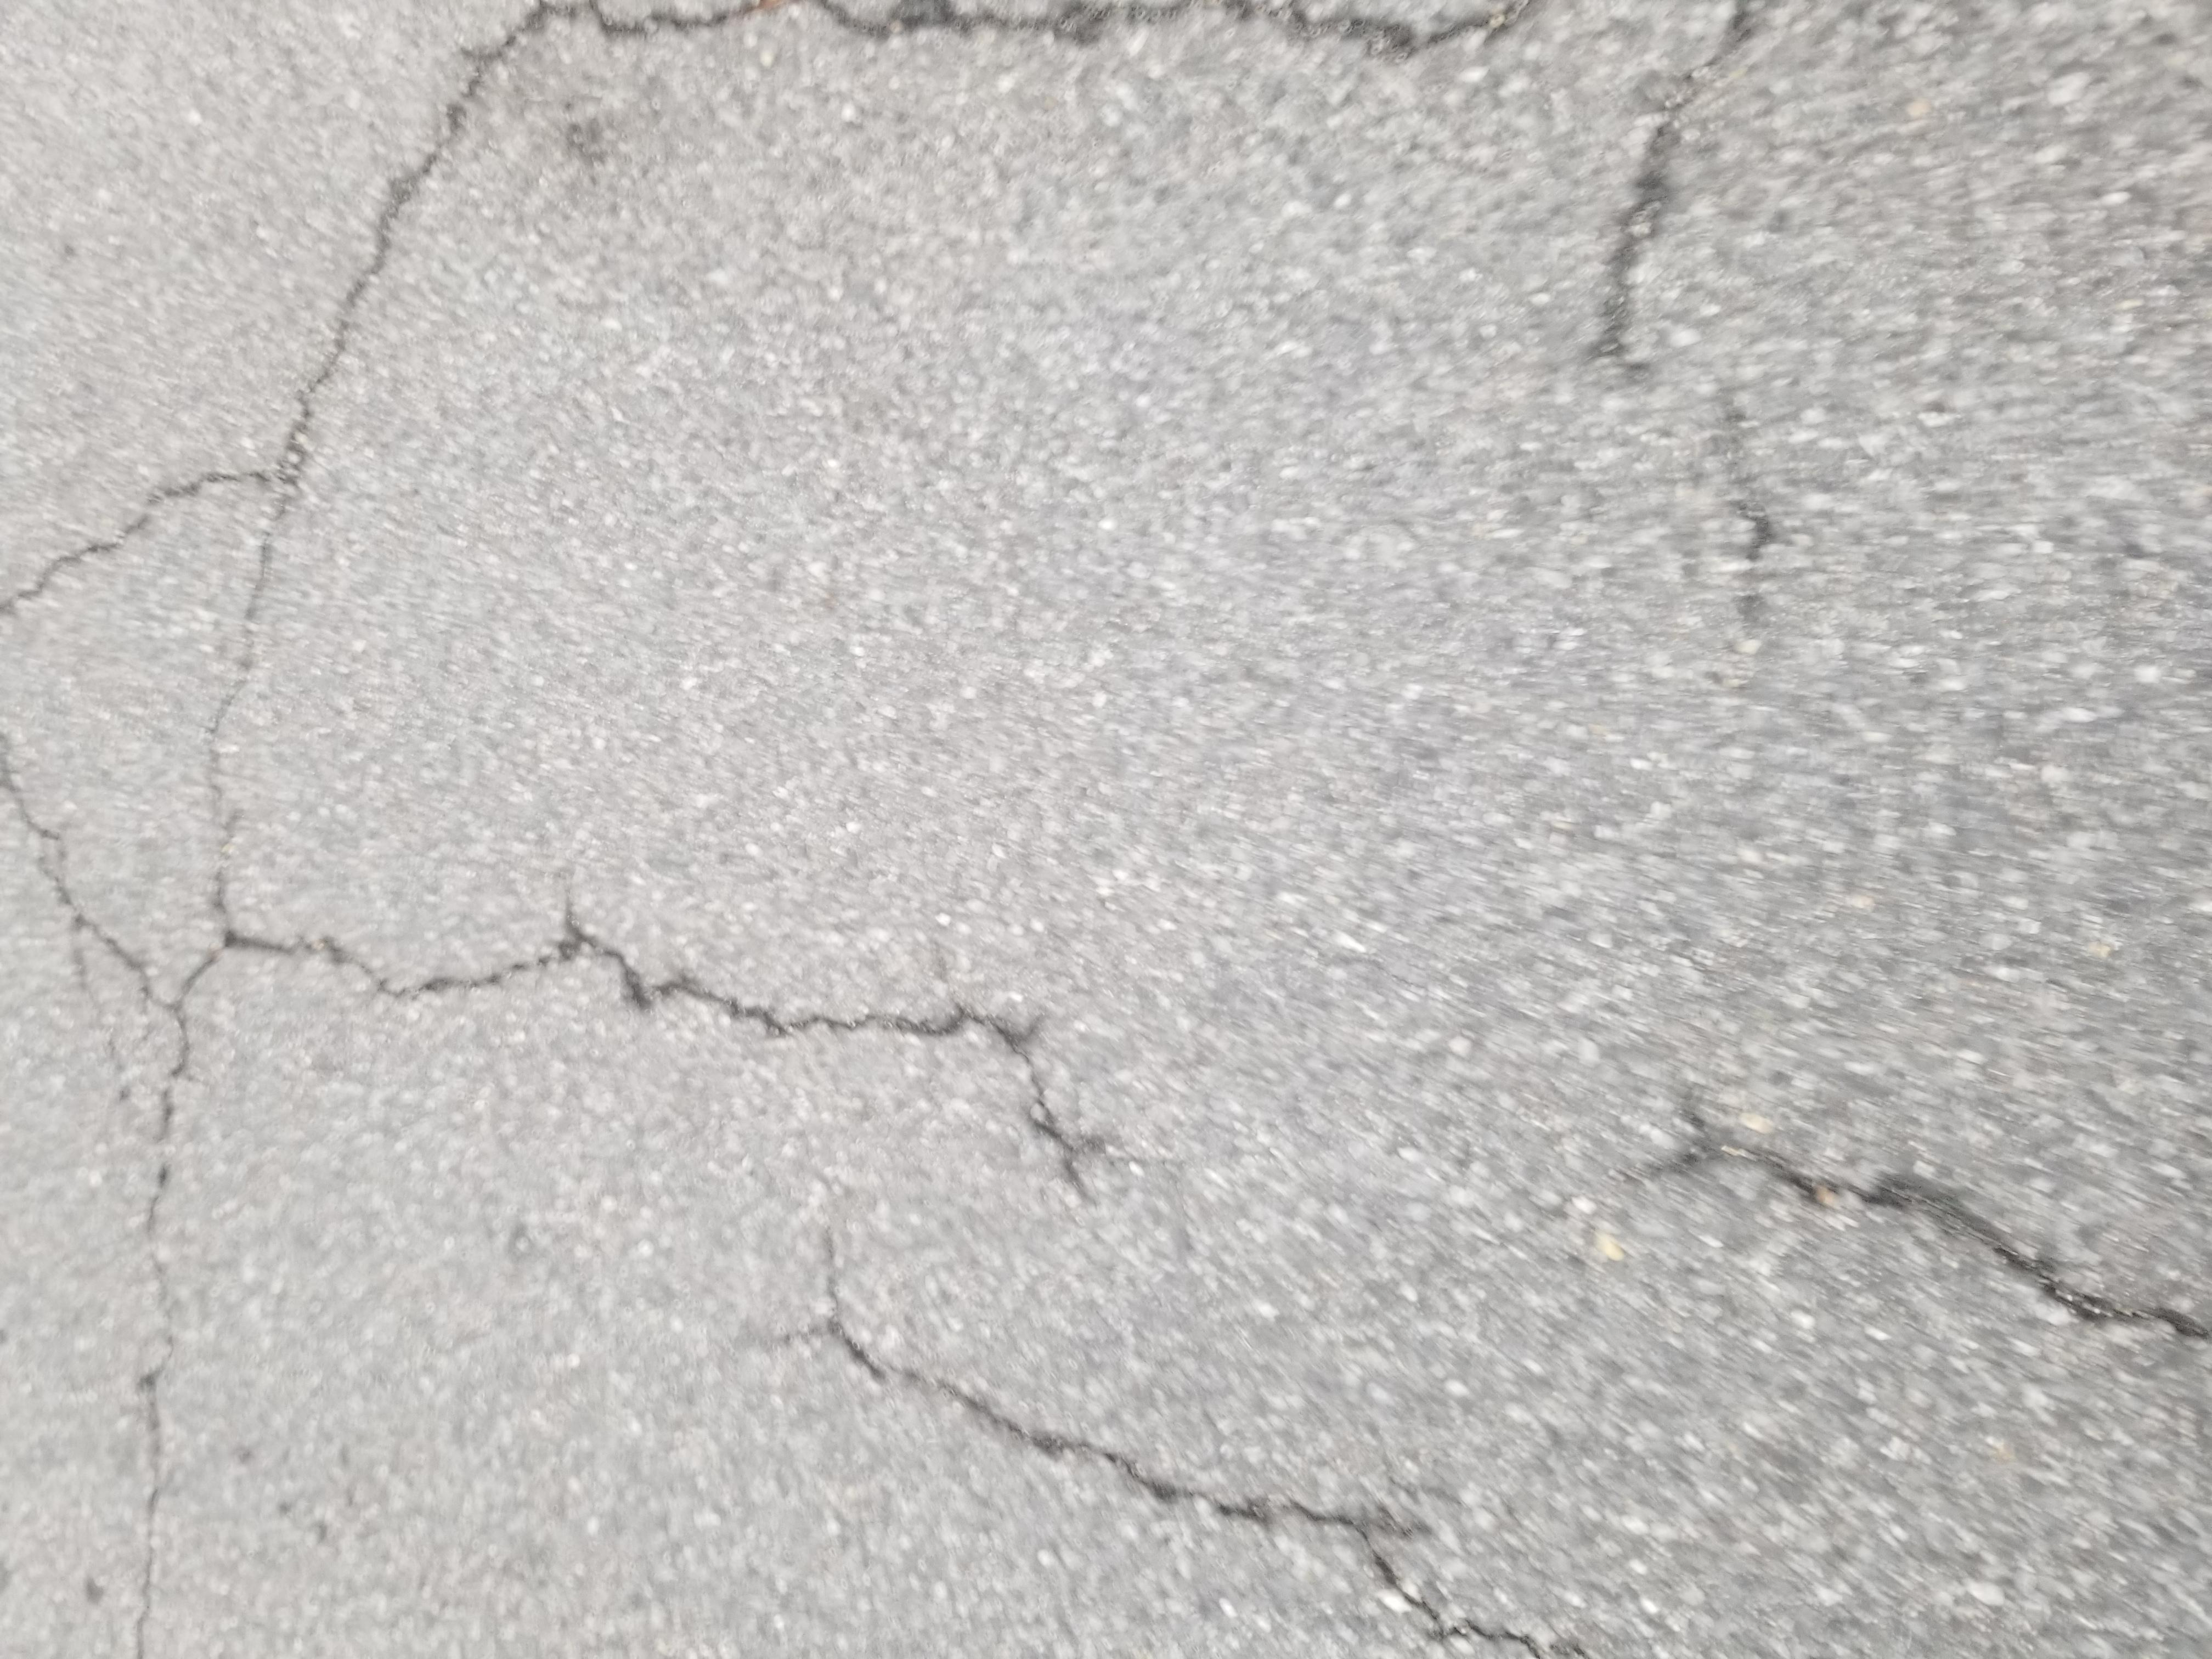crack: (0, 375, 566, 1192), (812, 185, 1137, 857), (7, 61, 1639, 181), (416, 1208, 768, 1645), (1648, 211, 2212, 425), (1700, 1159, 2212, 1335), (2094, 429, 2212, 1173)
